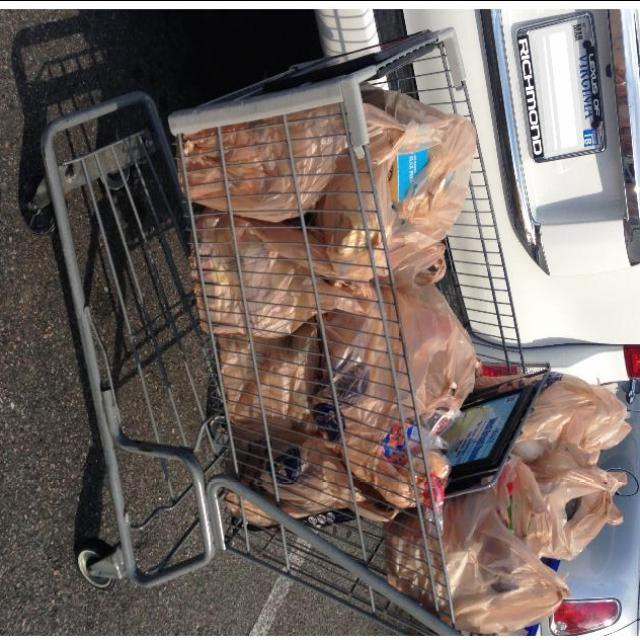plastik: (325, 283, 477, 507), (314, 86, 476, 281), (385, 488, 569, 631), (195, 211, 372, 337), (183, 103, 347, 221), (234, 415, 398, 521), (497, 449, 627, 559), (219, 324, 321, 425), (514, 373, 629, 462)
